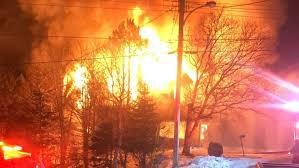fire: (57, 9, 221, 106)
